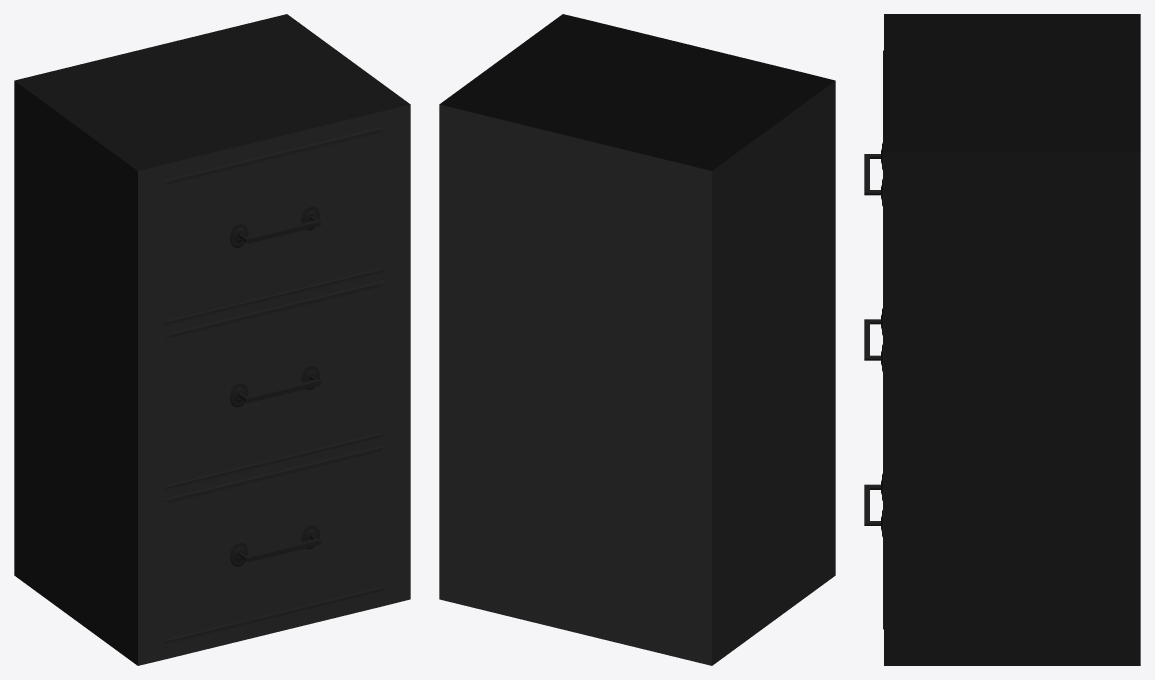
File: tumb.obj
3 renders of one model, left to right at view 1: azimuth 30°, elevation 25°; view 2: azimuth 150°, elevation 25°; view 3: azimuth 270°, elevation 25°, orthographic. The views are drawn at different scales.
Visible parts, largest first — view 1: obj2, obj1; view 2: obj2; view 3: obj2, obj1.
Part boxes in pixels (<box>): obj2: <box>14,14,410,665</box>; obj1: <box>229,204,321,566</box>; obj2: <box>439,14,835,665</box>; obj2: <box>883,14,1140,665</box>; obj1: <box>864,142,882,537</box>.
Size of the model in its own units: 0.7497 by 1.3 by 0.6337.
